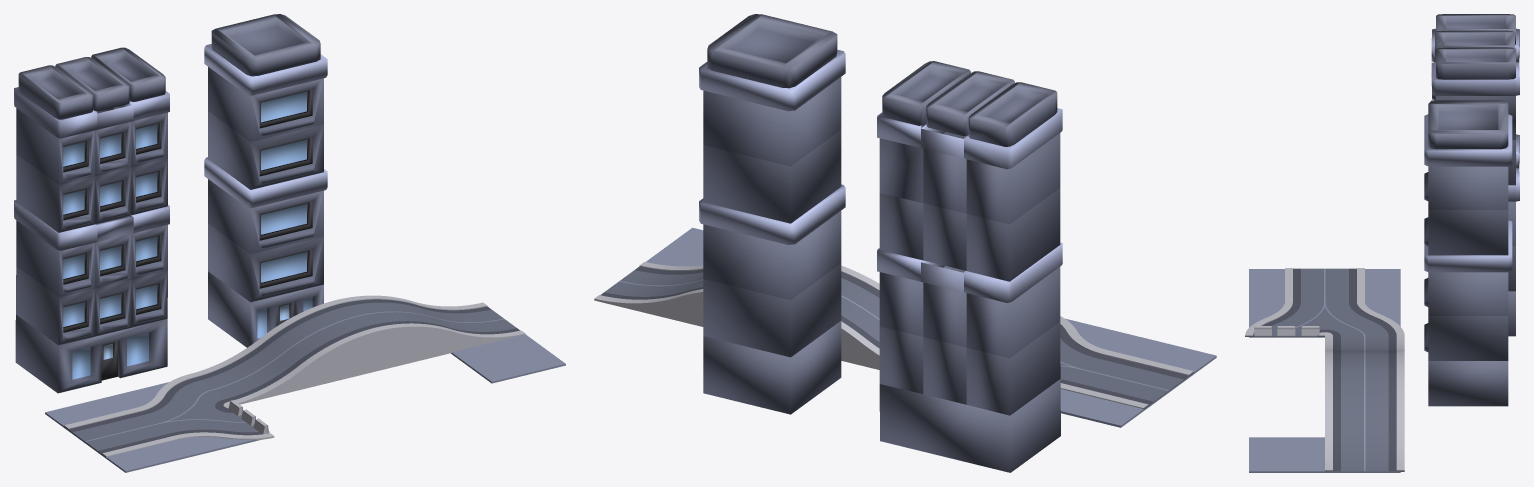
Rendered from TestTile2.obj.
3 views of the same model, side by side, from view 1: azimuth 30°, elevation 25°; view 2: azimuth 150°, elevation 25°; view 3: azimuth 270°, elevation 25° (orthographic). The views are drawn at different scales.
Visible parts, largest first — view 1: building-sample-tower-d.001, building-sample-tower-d, road_slantCurve, road_slantCurve.001, Cube, road_split, road_straight.001; view 2: building-sample-tower-d.001, building-sample-tower-d, Cube, road_slantCurve.001, road_straight.001, road_slantCurve, road_split; view 3: building-sample-tower-d, building-sample-tower-d.001, road_slantCurve.001, Cube, road_split, road_straight.001, road_slantCurve.
Part boxes in pixels (left/top/right/bottom): building-sample-tower-d.001: left=14, top=47, right=169, bottom=393; building-sample-tower-d: left=204, top=14, right=327, bottom=347; road_slantCurve: left=190, top=300, right=378, bottom=404; road_slantCurve.001: left=337, top=295, right=525, bottom=370; Cube: left=45, top=334, right=565, bottom=472; road_split: left=138, top=374, right=274, bottom=439; road_straight.001: left=64, top=407, right=179, bottom=457; building-sample-tower-d.001: left=877, top=61, right=1062, bottom=472; building-sample-tower-d: left=699, top=14, right=845, bottom=414; Cube: left=646, top=227, right=1216, bottom=427; road_slantCurve.001: left=594, top=262, right=703, bottom=326; road_straight.001: left=1060, top=350, right=1193, bottom=409; road_slantCurve: left=841, top=265, right=879, bottom=369; road_split: left=1060, top=316, right=1106, bottom=383; building-sample-tower-d: left=1424, top=100, right=1512, bottom=406; building-sample-tower-d.001: left=1431, top=14, right=1519, bottom=336; road_slantCurve.001: left=1325, top=366, right=1404, bottom=471; Cube: left=1249, top=269, right=1400, bottom=472; road_split: left=1245, top=301, right=1404, bottom=336; road_straight.001: left=1285, top=268, right=1364, bottom=302; road_slantCurve: left=1325, top=335, right=1404, bottom=367.
Bounding box in the file's own units: 6 × 3.76 × 3.44.
